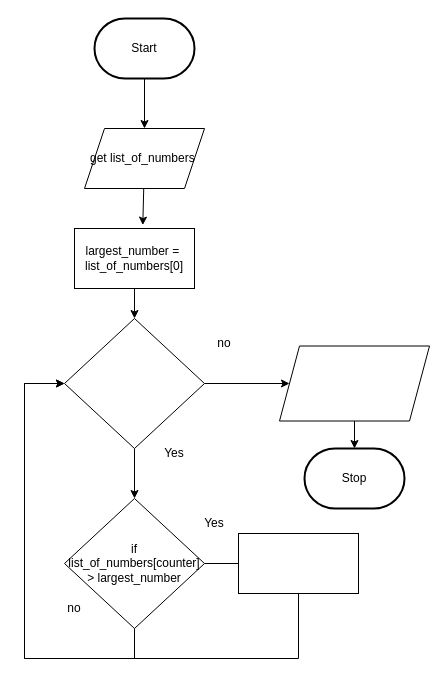
The diagram is 447 pixels wide and 684 high, and some of its shapes have lost their labels. Here are the shapes that lost their labels. From the top down, the box of each, then its label:
(64, 318, 204, 448): for counter in rage(0, len(list_of_numbers))
(278, 345, 430, 421): return largest number
(238, 532, 358, 594): largest_number = list_of_numbers[counter]
